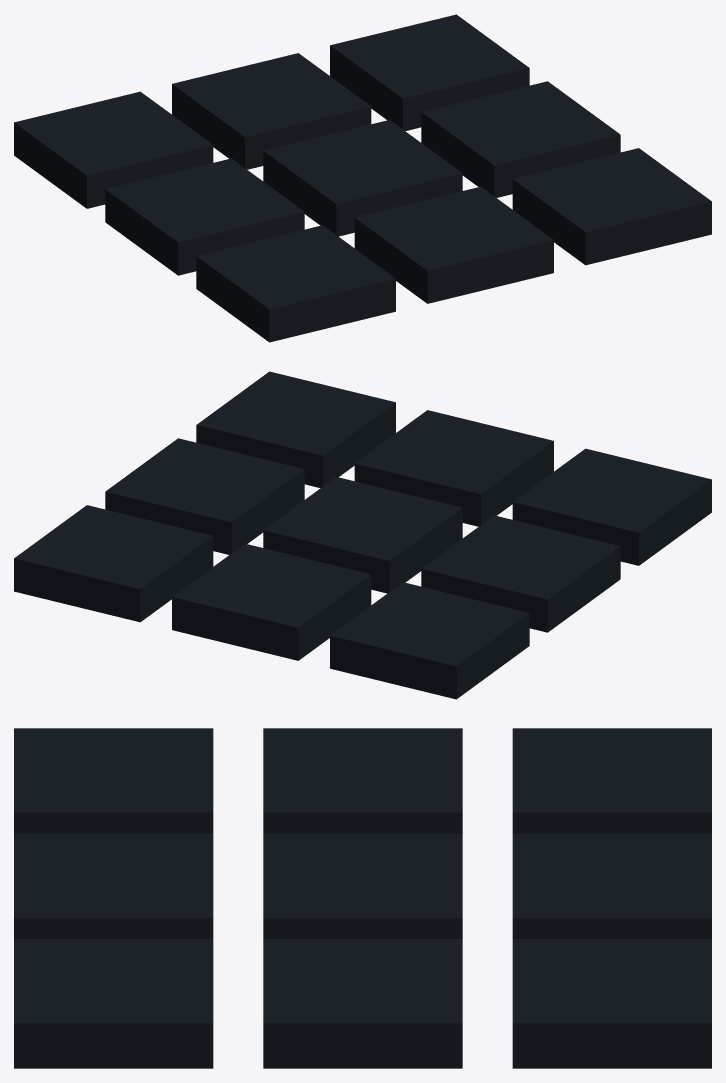
Rendered from spikes_disabled.obj.
3 renders of one model, top to bottom at view 1: azimuth 30°, elevation 25°; view 2: azimuth 150°, elevation 25°; view 3: azimuth 270°, elevation 25°, orthographic. The views are drawn at different scales.
Size of the model in its own units: 1.4 by 0.1 by 1.4.
